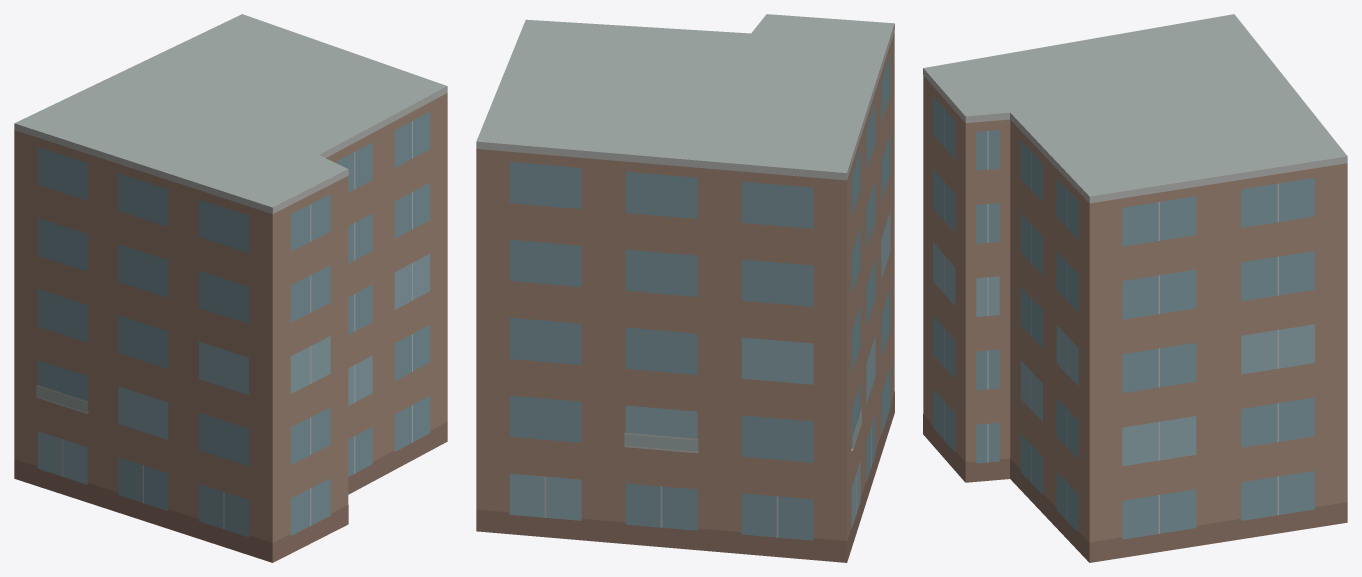
File: survey-upis-32852368.glb
3 renders of one model, left to right at view 1: azimuth 30°, elevation 25°; view 2: azimuth 150°, elevation 25°; view 3: azimuth 270°, elevation 25°, orthographic. The views are drawn at different scales.
Visible parts, largest first — view 1: survey-upis-32852368.tmp; view 2: survey-upis-32852368.tmp; view 3: survey-upis-32852368.tmp.
Boxes of the visible parts, x1,y1,x2,y2 form: survey-upis-32852368.tmp: (14, 14, 447, 562); survey-upis-32852368.tmp: (476, 14, 894, 562); survey-upis-32852368.tmp: (923, 14, 1347, 562).
Size of the model in its own units: 14.02 by 13.1 by 13.77.
